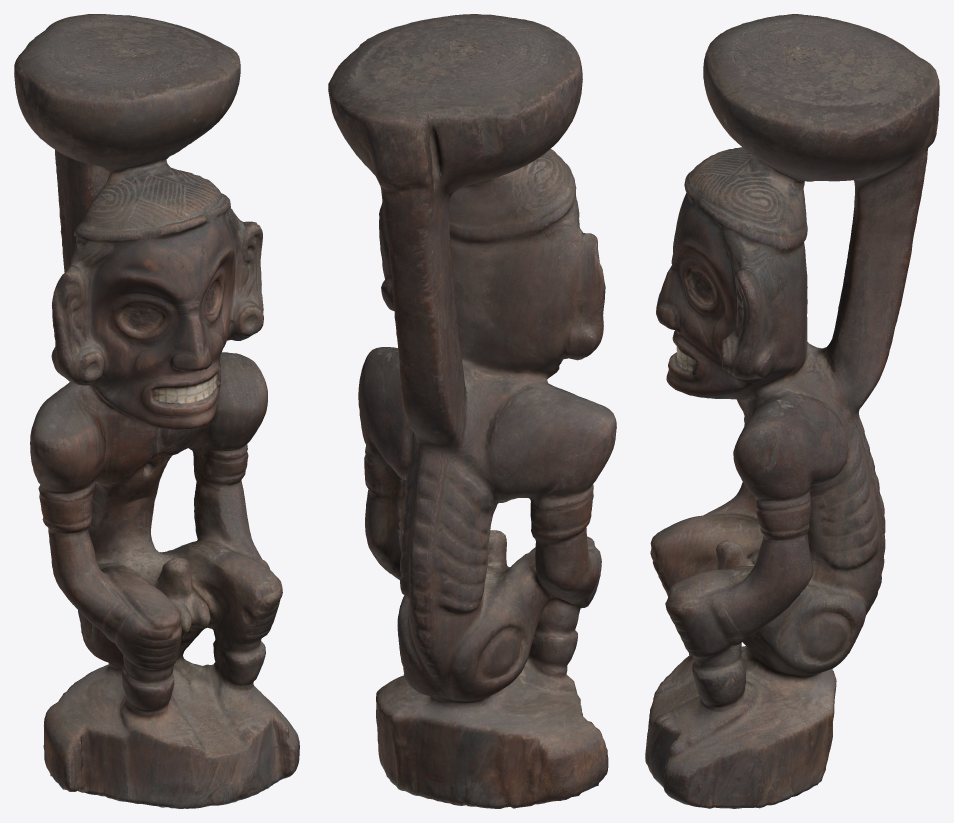
Rendered from wood_deity-draco.glb.
3 views of the same model, side by side, from view 1: azimuth 30°, elevation 25°; view 2: azimuth 150°, elevation 25°; view 3: azimuth 270°, elevation 25° (orthographic). The views are drawn at different scales.
Visible parts, largest first — view 1: PG_1979_206_380_AAOA_WoodDeity_LP2; view 2: PG_1979_206_380_AAOA_WoodDeity_LP2; view 3: PG_1979_206_380_AAOA_WoodDeity_LP2.
Boxes of the visible parts, x1,y1,x2,y2 form: PG_1979_206_380_AAOA_WoodDeity_LP2: (14,14,299,808); PG_1979_206_380_AAOA_WoodDeity_LP2: (328,14,616,808); PG_1979_206_380_AAOA_WoodDeity_LP2: (645,14,939,808).
Size of the model in its own units: 0.225 by 0.6664 by 0.251.
1 material, 1 textured.
